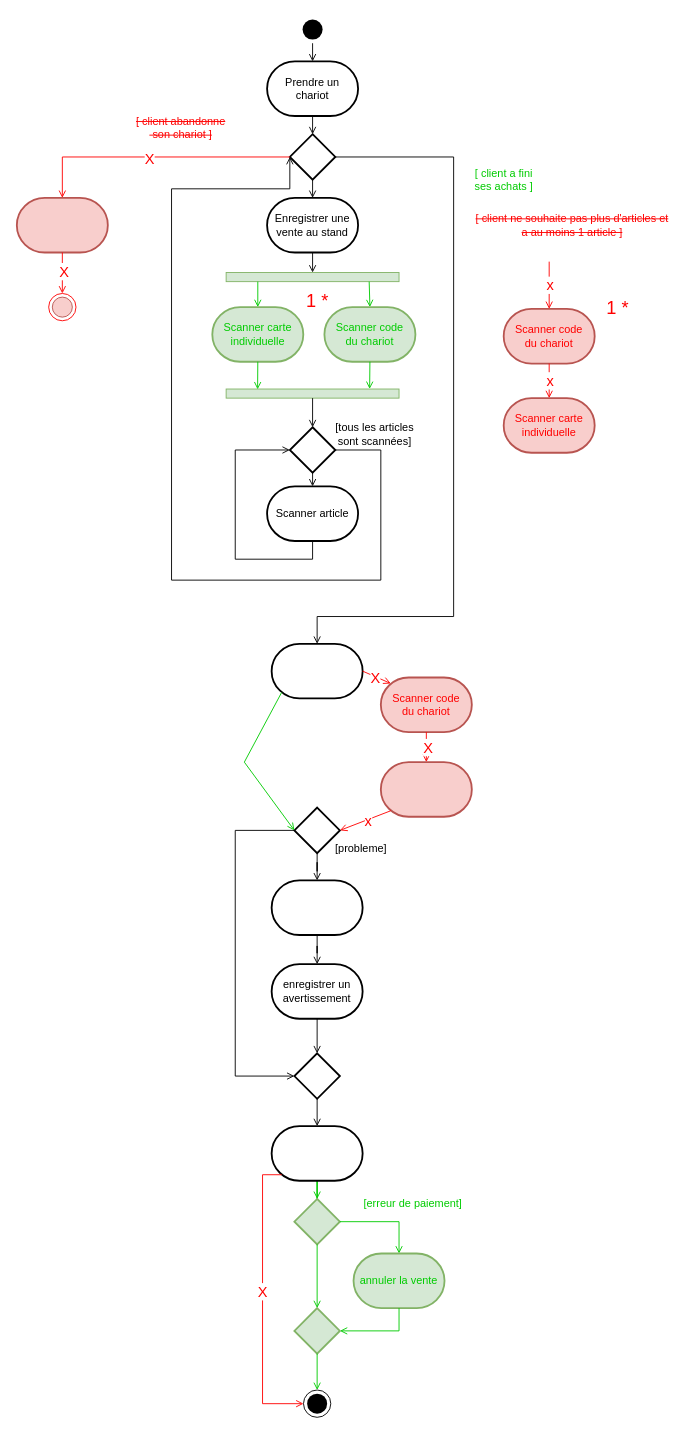
Some shapes in this 696 by 1433 pixel diagram are drawn without their labels. The shapes that lost their labels are listed below. From the top down, each one's box as (x1, y1, x2, y2) in pixels, then its label:
(15, 197, 108, 253): Enregistrer vente abandonnée
(270, 642, 363, 699): Clôturer vente
(379, 761, 472, 817): Vérifier le contenu du chariot
(270, 879, 363, 935): suspendre la vente
(270, 1125, 363, 1181): payer ses achats
